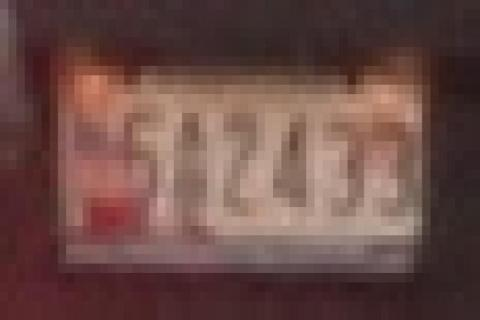LicensePlate: (42, 44, 431, 280)
